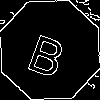B: (25, 25, 72, 79)
